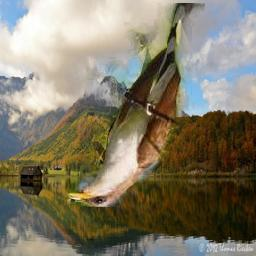Cuckoo: (67, 3, 205, 207)
